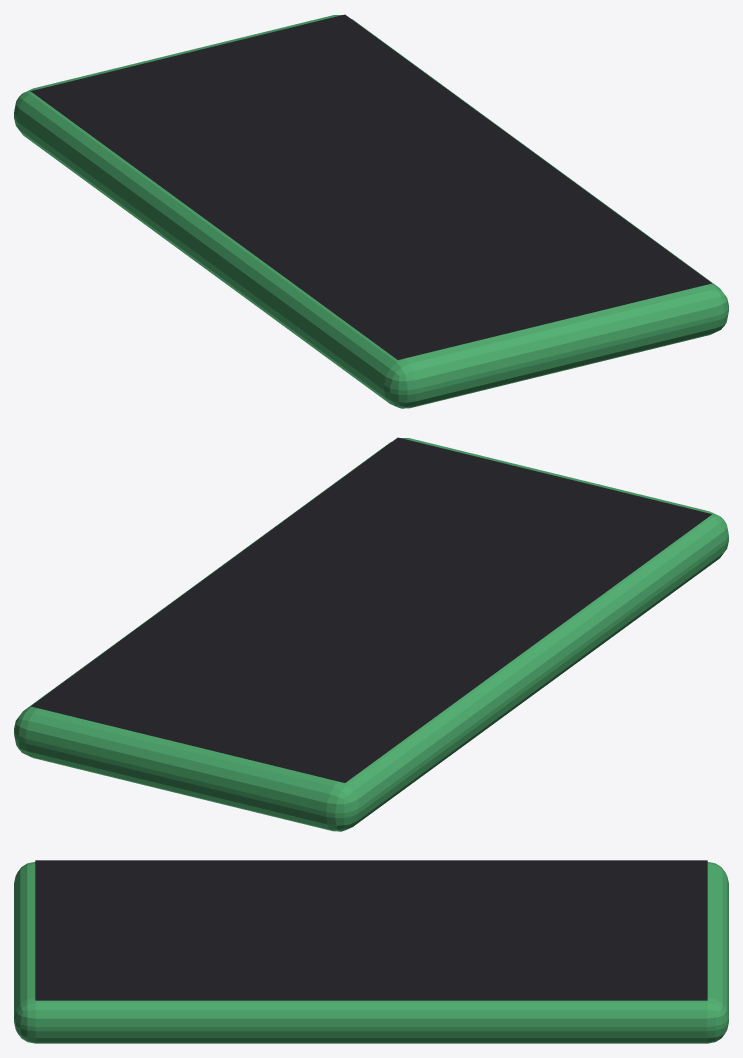
File: motorola-moto-g-model-141-flagship-2025.glb
3 views of the same model, one above another, from view 1: azimuth 30°, elevation 25°; view 2: azimuth 150°, elevation 25°; view 3: azimuth 270°, elevation 25° (orthographic). The views are drawn at different scales.
Visible parts, largest first — view 1: Phone_Screen, Phone_Body; view 2: Phone_Screen, Phone_Body; view 3: Phone_Screen, Phone_Body.
Boxes of the visible parts, <box> form: Phone_Screen: <box>31,14,711,359</box>; Phone_Body: <box>14,15,728,408</box>; Phone_Screen: <box>31,437,711,782</box>; Phone_Body: <box>14,438,728,831</box>; Phone_Screen: <box>35,860,707,1000</box>; Phone_Body: <box>14,862,728,1043</box>.
Size of the model in its own units: 0.0739 by 0.01 by 0.1463.
